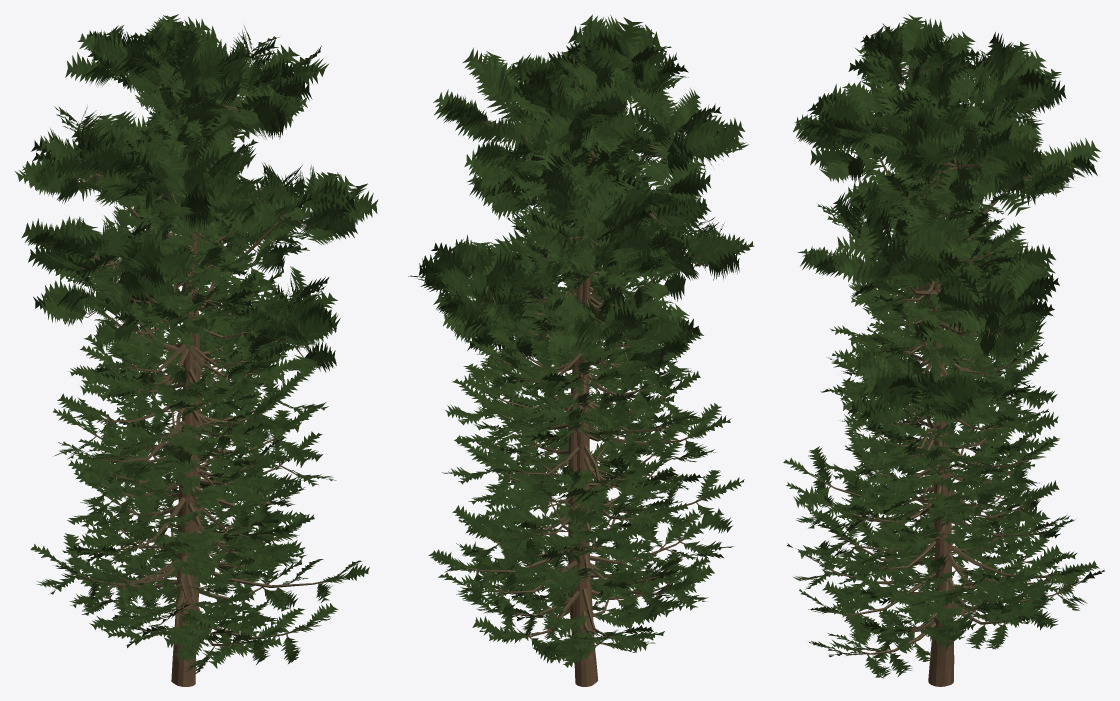
Rendered from mature-conifers.glb.
3 views of the same model, side by side, from view 1: azimuth 30°, elevation 25°; view 2: azimuth 150°, elevation 25°; view 3: azimuth 270°, elevation 25° (orthographic). The views are drawn at different scales.
Visible parts, largest first — view 1: MatureSpruce, MaturePine; view 2: MatureSpruce, MaturePine; view 3: MatureSpruce, MaturePine.
Boxes of the visible parts, x1,y1,x2,y2 form: MatureSpruce: (30, 21, 369, 681); MaturePine: (15, 14, 378, 686); MatureSpruce: (428, 39, 744, 686); MaturePine: (408, 14, 754, 684); MatureSpruce: (783, 38, 1104, 686); MaturePine: (793, 14, 1100, 686).
Size of the model in its own units: 11.65 by 23.82 by 10.71.
